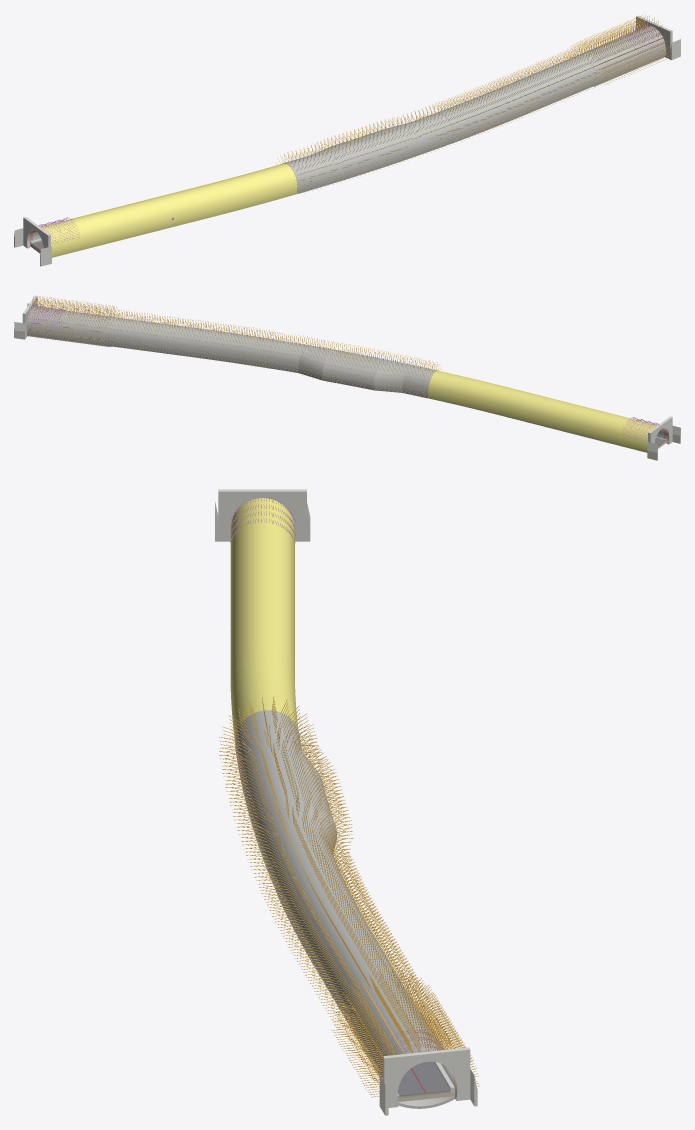
The model's file is tunnel_LOD400.glb.
3 renders of one model, top to bottom at view 1: azimuth 30°, elevation 25°; view 2: azimuth 150°, elevation 25°; view 3: azimuth 270°, elevation 25°, orthographic. The views are drawn at different scales.
Parts seen in each view (by area): view 1: 防水工|防水シート, 吹付け|吹付けコンクリート t=10cm [DⅠ区間], 吹付け|吹付けコンクリート t=15cm [DⅡ区間], ロックボルト|ロックボルト L=3.0m @1.2x1.5 [DⅡ区間] (700本), 吹付け|吹付けコンクリート t=20cm [DⅢa区間], ロックボルト|ロックボルト L=4.0m @1.0x1.2 [DⅢa区間] (540本), ロックボルト|ロックボルト L=3.0m @1.5x1.5 [DⅠ区間] (582本), 坑門工|坑門工 面壁 (起点側), 坑門工|坑門工 面壁 (終点側); view 2: 防水工|防水シート, 吹付け|吹付けコンクリート t=10cm [DⅠ区間], 吹付け|吹付けコンクリート t=15cm [DⅡ区間], 吹付け|吹付けコンクリート t=20cm [DⅢa区間], ロックボルト|ロックボルト L=3.0m @1.2x1.5 [DⅡ区間] (700本), ロックボルト|ロックボルト L=3.0m @1.5x1.5 [DⅠ区間] (582本), ロックボルト|ロックボルト L=4.0m @1.0x1.2 [DⅢa区間] (540本), 坑門工|坑門工 面壁 (起点側), 補助工法|フォアポーリング φ50 L=3.0m @450 (No.0-12, 124本), 補助工法|フォアポーリング φ50 L=3.0m @450 (No.228-240, 124本); view 3: 防水工|防水シート, 吹付け|吹付けコンクリート t=10cm [DⅠ区間], 吹付け|吹付けコンクリート t=15cm [DⅡ区間], ロックボルト|ロックボルト L=3.0m @1.2x1.5 [DⅡ区間] (700本), ロックボルト|ロックボルト L=3.0m @1.5x1.5 [DⅠ区間] (582本), ロックボルト|ロックボルト L=4.0m @1.0x1.2 [DⅢa区間] (540本), 吹付け|吹付けコンクリート t=20cm [DⅢa区間], 坑門工|坑門工 面壁 (終点側), 坑門工|坑門工 面壁 (起点側), 舗装|舗装 表層 t=4cm.
Part boxes in pixels (box(x1,y1,x2,y2)): 防水工|防水シート: box(40, 163, 297, 257); 吹付け|吹付けコンクリート t=10cm [DⅠ区間]: box(282, 112, 453, 193); 吹付け|吹付けコンクリート t=15cm [DⅡ区間]: box(436, 55, 596, 142); ロックボルト|ロックボルト L=3.0m @1.2x1.5 [DⅡ区間] (700本): box(429, 47, 601, 141); 吹付け|吹付けコンクリート t=20cm [DⅢa区間]: box(578, 26, 665, 84); ロックボルト|ロックボルト L=4.0m @1.0x1.2 [DⅢa区間] (540本): box(563, 14, 672, 85); ロックボルト|ロックボルト L=3.0m @1.5x1.5 [DⅠ区間] (582本): box(275, 104, 457, 192); 坑門工|坑門工 面壁 (起点側): box(23, 217, 50, 248); 坑門工|坑門工 面壁 (終点側): box(636, 15, 672, 59); 防水工|防水シート: box(428, 371, 657, 452); 吹付け|吹付けコンクリート t=10cm [DⅠ区間]: box(272, 340, 438, 398); 吹付け|吹付けコンクリート t=15cm [DⅡ区間]: box(109, 317, 279, 368); 吹付け|吹付けコンクリート t=20cm [DⅢa区間]: box(27, 306, 114, 345); ロックボルト|ロックボルト L=3.0m @1.2x1.5 [DⅡ区間] (700本): box(109, 309, 283, 367); ロックボルト|ロックボルト L=3.0m @1.5x1.5 [DⅠ区間] (582本): box(271, 333, 442, 397); ロックボルト|ロックボルト L=4.0m @1.0x1.2 [DⅢa区間] (540本): box(25, 295, 118, 346); 坑門工|坑門工 面壁 (起点側): box(648, 416, 672, 444); 補助工法|フォアポーリング φ50 L=3.0m @450 (No.0-12, 124本): box(622, 417, 659, 441); 補助工法|フォアポーリング φ50 L=3.0m @450 (No.228-240, 124本): box(27, 305, 65, 327); 防水工|防水シート: box(230, 498, 298, 743); 吹付け|吹付けコンクリート t=10cm [DⅠ区間]: box(235, 710, 336, 891); 吹付け|吹付けコンクリート t=15cm [DⅡ区間]: box(276, 850, 408, 1030); ロックボルト|ロックボルト L=3.0m @1.2x1.5 [DⅡ区間] (700本): box(260, 836, 432, 1027); ロックボルト|ロックボルト L=3.0m @1.5x1.5 [DⅠ区間] (582本): box(218, 697, 356, 887); ロックボルト|ロックボルト L=4.0m @1.0x1.2 [DⅢa区間] (540本): box(331, 968, 479, 1097); 吹付け|吹付けコンクリート t=20cm [DⅢa区間]: box(353, 988, 441, 1079); 坑門工|坑門工 面壁 (終点側): box(383, 1047, 470, 1107); 坑門工|坑門工 面壁 (起点側): box(218, 489, 306, 541); 舗装|舗装 表層 t=4cm: box(398, 1061, 450, 1095).
Size of the model in its own units: 247 by 14.97 by 46.36.
